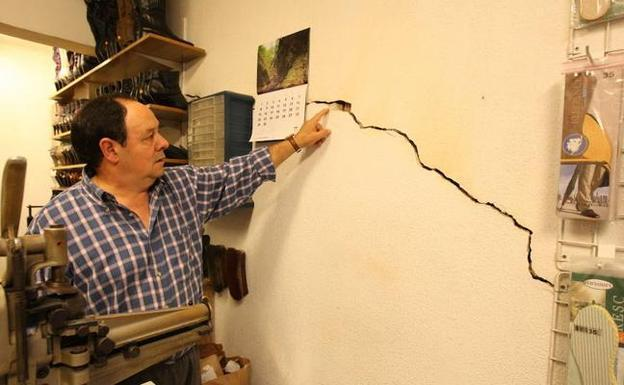crack: (306, 100, 554, 288)
